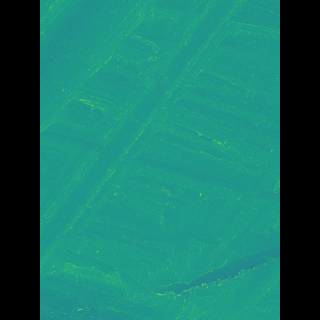Loch: (71, 0, 224, 297), (116, 85, 250, 316)
